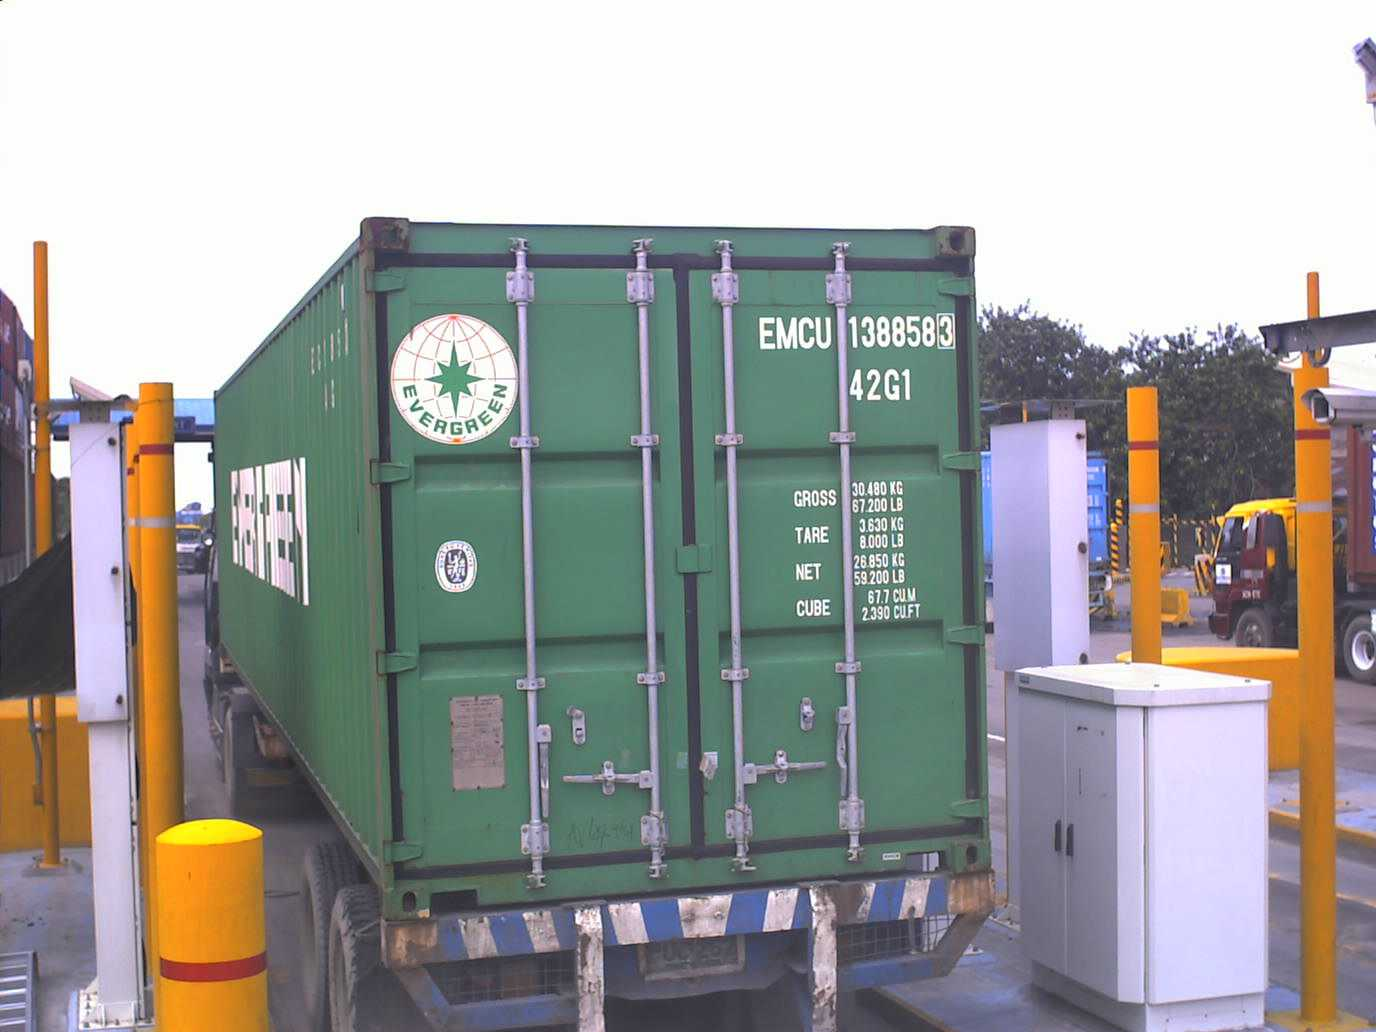container_door: (354, 206, 998, 893)
